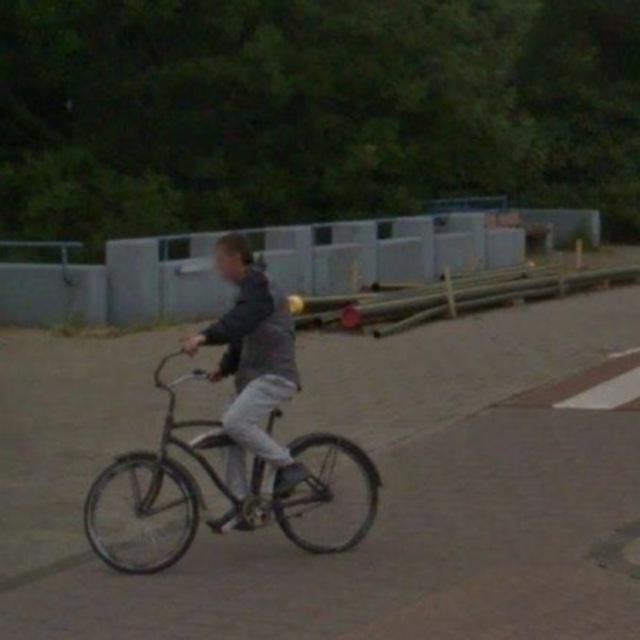bicycle: (0, 328, 418, 627)
